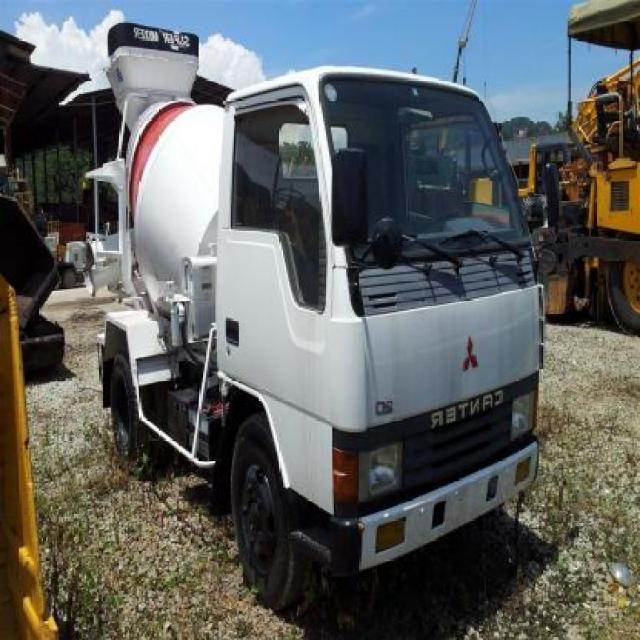truck: (99, 22, 560, 606)
